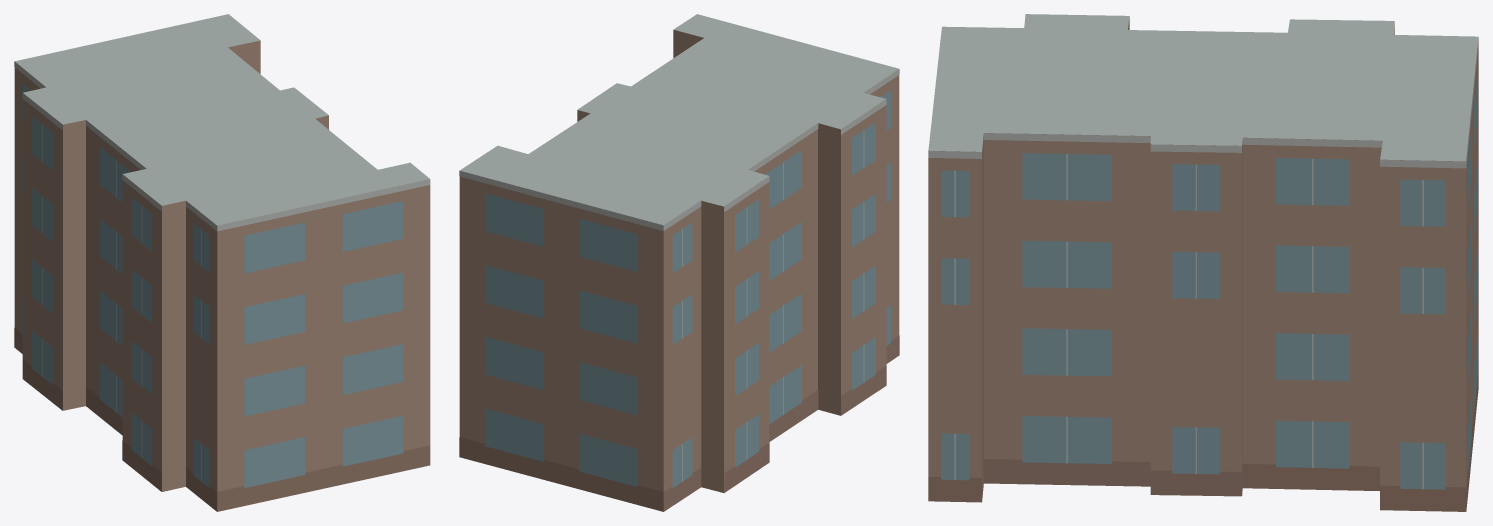
File: survey-upis-32703010.glb
3 renders of one model, left to right at view 1: azimuth 30°, elevation 25°; view 2: azimuth 150°, elevation 25°; view 3: azimuth 270°, elevation 25°, orthographic. The views are drawn at different scales.
Parts seen in each view (by area): view 1: survey-upis-32703010.tmp; view 2: survey-upis-32703010.tmp; view 3: survey-upis-32703010.tmp.
Boxes of the visible parts, x1,y1,x2,y2 form: survey-upis-32703010.tmp: (14,14,430,511); survey-upis-32703010.tmp: (459,14,899,511); survey-upis-32703010.tmp: (928,14,1478,511).
Bounding box in the file's own units: 10.94 × 12.12 × 17.26.
